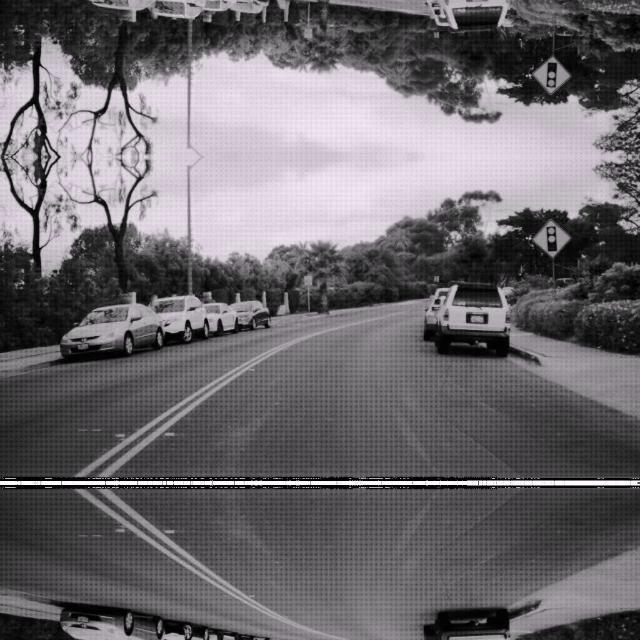signalAhead: (531, 217, 571, 257), (531, 55, 571, 95)
